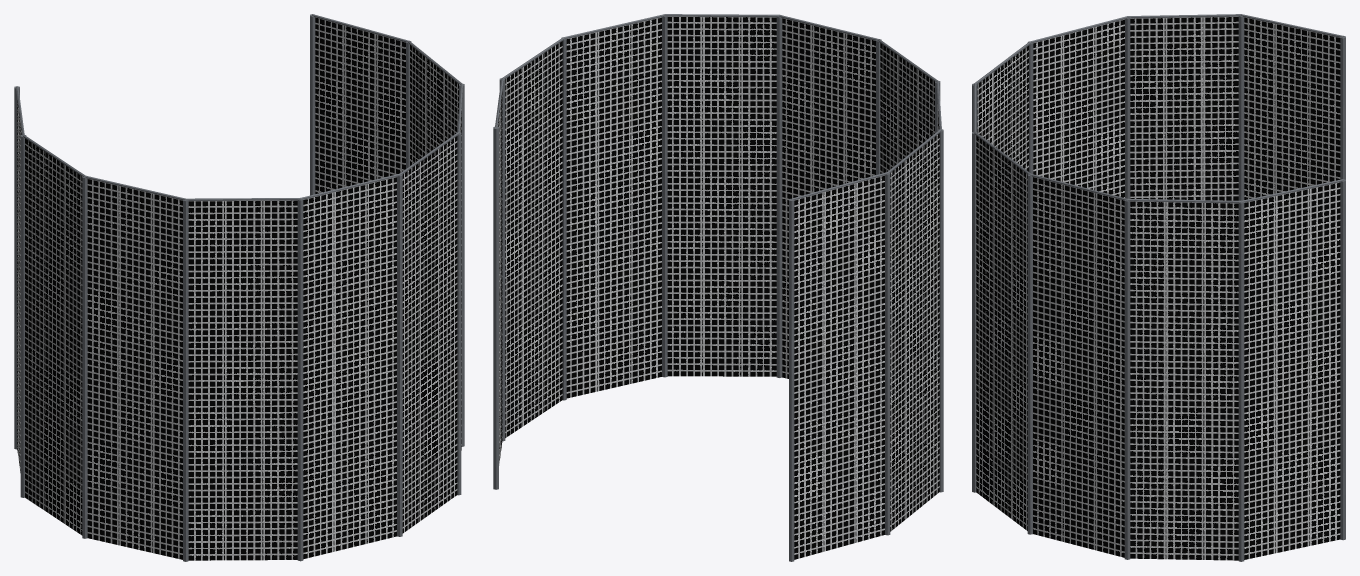
File: throwing_cage.obj
3 renders of one model, left to right at view 1: azimuth 30°, elevation 25°; view 2: azimuth 150°, elevation 25°; view 3: azimuth 270°, elevation 25°, orthographic.
Visible parts, largest first — view 1: throwing_cage; view 2: throwing_cage; view 3: throwing_cage.
Part boxes in pixels (<box>): throwing_cage: <box>14,14,464,561</box>; throwing_cage: <box>493,14,943,561</box>; throwing_cage: <box>972,14,1345,561</box>.
Size of the model in its own units: 7.93 by 7.03 by 6.61.
